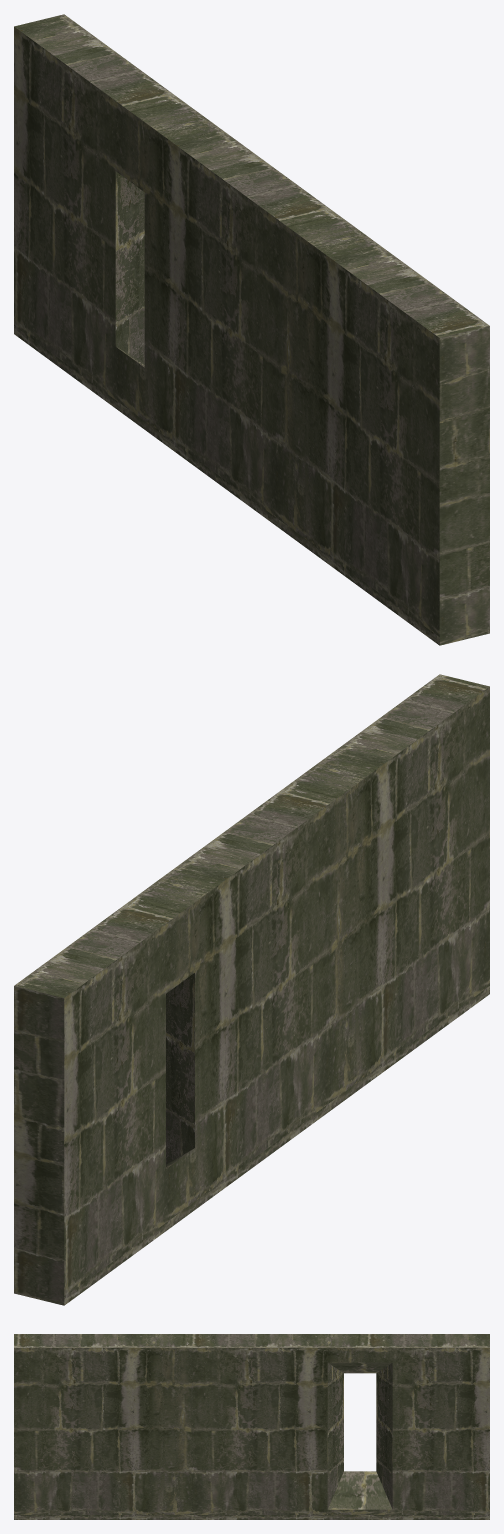
Rendered from HorizontalHalfWall_Arrowslit_R.fbx.
3 views of the same model, one above another, from view 1: azimuth 30°, elevation 25°; view 2: azimuth 150°, elevation 25°; view 3: azimuth 270°, elevation 25° (orthographic). The views are drawn at different scales.
Visible parts, largest first — view 1: HorizontalHalfWall_Arrowslit_R; view 2: HorizontalHalfWall_Arrowslit_R; view 3: HorizontalHalfWall_Arrowslit_R.
Boxes of the visible parts, x1,y1,x2,y2 form: HorizontalHalfWall_Arrowslit_R: [14, 14, 489, 645]; HorizontalHalfWall_Arrowslit_R: [14, 674, 489, 1305]; HorizontalHalfWall_Arrowslit_R: [14, 1334, 489, 1519].
Size of the model in its own units: 51 by 298 by 748.
